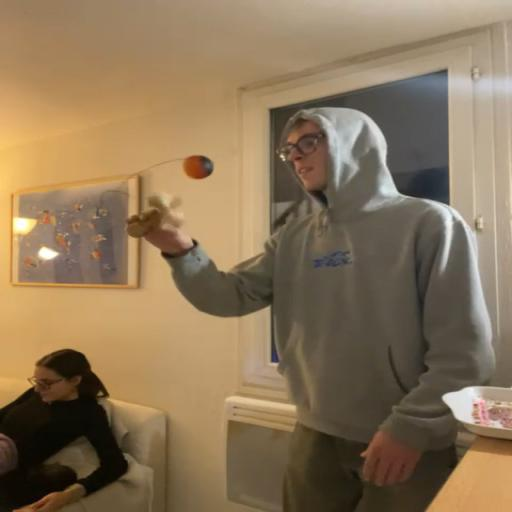kendama_ball: (182, 155, 214, 179)
